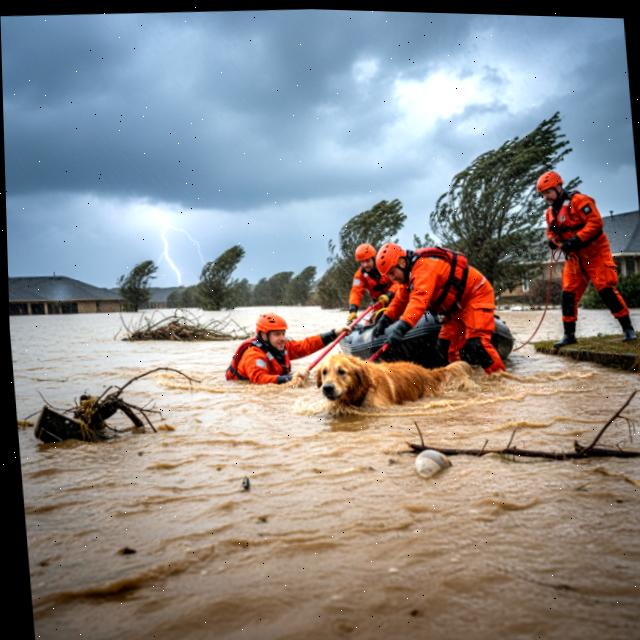dog: (307, 330, 482, 428)
rescuer: (514, 160, 640, 357), (373, 230, 517, 387), (217, 303, 354, 397), (338, 230, 415, 342)
